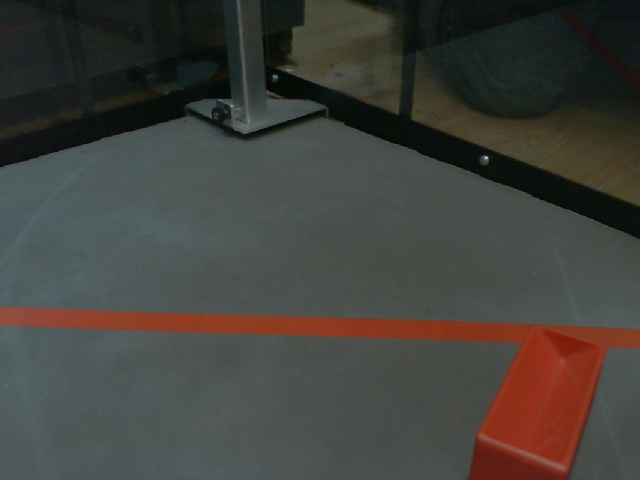RedSample: (463, 325, 609, 480)
